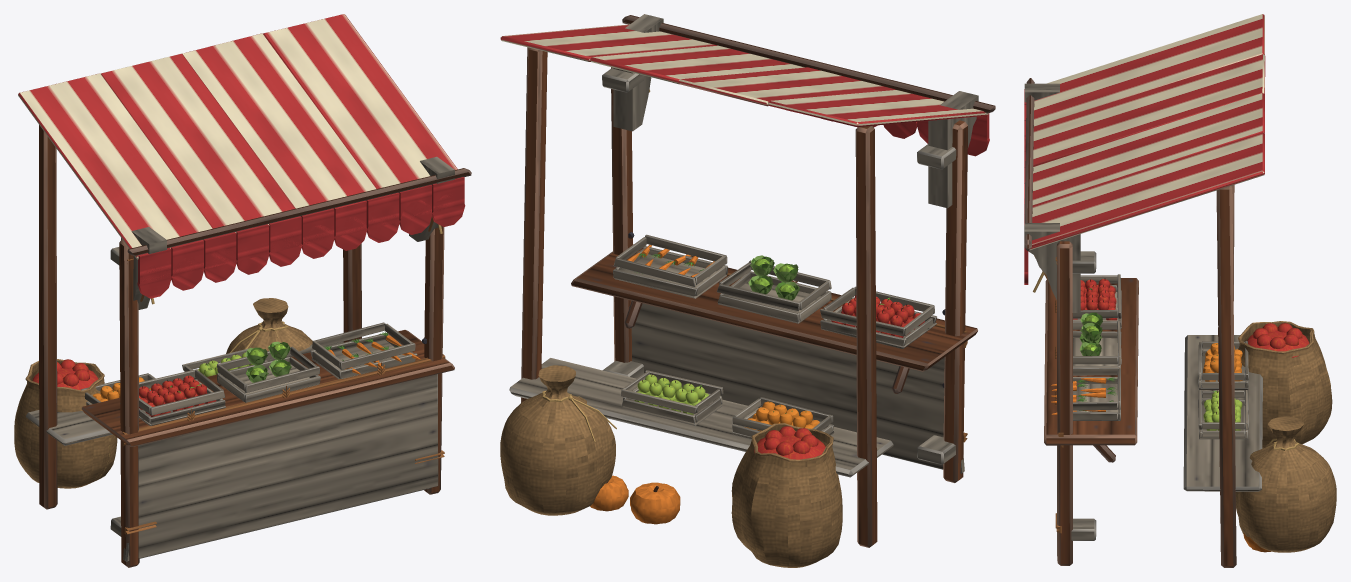
Rendered from SM_Market_Stall_Red.obj.
3 renders of one model, left to right at view 1: azimuth 30°, elevation 25°; view 2: azimuth 150°, elevation 25°; view 3: azimuth 270°, elevation 25°, orthographic. The views are drawn at different scales.
Parts seen in each view (by area): view 1: SM_Market_Stall_Red; view 2: SM_Market_Stall_Red; view 3: SM_Market_Stall_Red.
Boxes of the visible parts, x1=… form: SM_Market_Stall_Red: x1=14, y1=14, x2=471, y2=567; SM_Market_Stall_Red: x1=500, y1=14, x2=995, y2=567; SM_Market_Stall_Red: x1=1024, y1=14, x2=1336, y2=567.
Size of the model in its own units: 2.52 by 2.84 by 2.01.
Materials: 1 (1 with a texture image).
